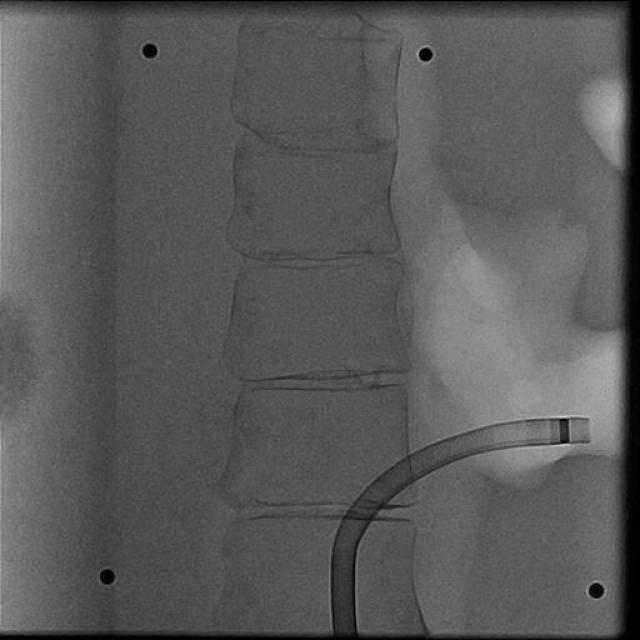bend: (332, 538, 358, 556)
entry: (333, 626, 358, 634)
marker: (560, 418, 570, 443)
tip: (585, 419, 591, 442)
